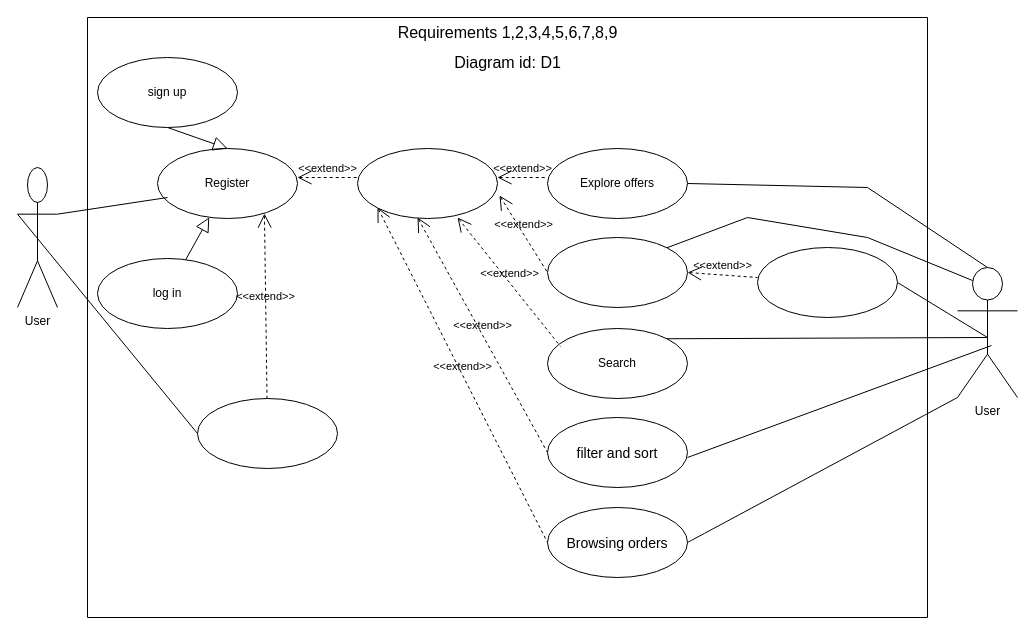
Image size: 1035x635. Some labels were removed from this diagram. Each missing label, with the box of its shape:
Browsing: (356, 148, 498, 218)
Checkout: (756, 246, 898, 318)
Send messages: (196, 398, 338, 468)
Shopping: (546, 236, 688, 308)
